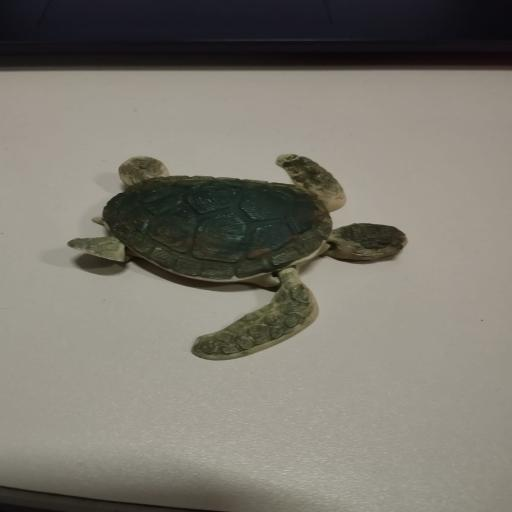Tugarin-modelo1: (68, 154, 407, 360)
